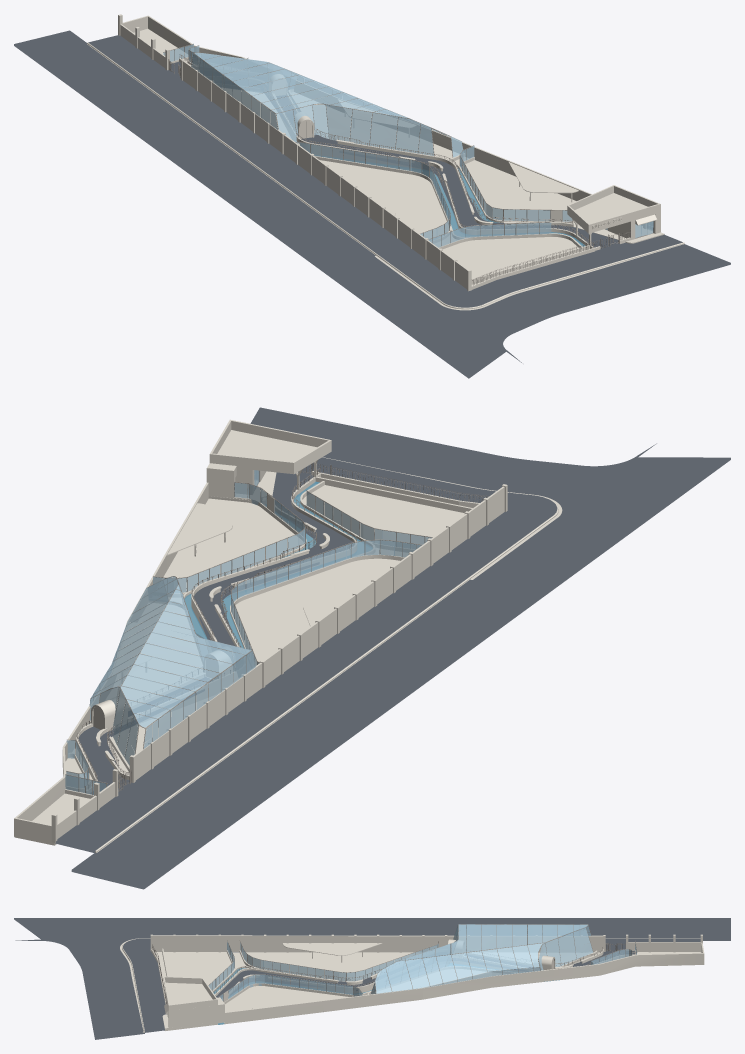
Rendered from budoor-zoo.glb.
3 renders of one model, top to bottom at view 1: azimuth 30°, elevation 25°; view 2: azimuth 150°, elevation 25°; view 3: azimuth 270°, elevation 25°, orthographic. The views are drawn at different scales.
Visible parts, largest first — view 1: ground, stone, glass, metal, water; view 2: ground, stone, glass, metal, water; view 3: stone, ground, glass, metal, water.
Boxes of the visible parts, left/top/right/bottom form: ground: left=14, top=30, right=730, bottom=378; stone: left=87, top=14, right=684, bottom=310; glass: left=163, top=44, right=653, bottom=247; metal: left=163, top=43, right=654, bottom=285; water: left=316, top=155, right=585, bottom=246; ground: left=55, top=407, right=730, bottom=889; stone: left=14, top=419, right=562, bottom=852; glass: left=65, top=470, right=431, bottom=794; metal: left=65, top=463, right=488, bottom=795; water: left=184, top=481, right=372, bottom=648; stone: left=120, top=934, right=704, bottom=1032; ground: left=14, top=918, right=730, bottom=1039; glass: left=209, top=924, right=636, bottom=1000; metal: left=152, top=924, right=637, bottom=1003; water: left=213, top=963, right=559, bottom=1024.
Bounding box in the file's own units: 48.83 × 5.61 × 123.
